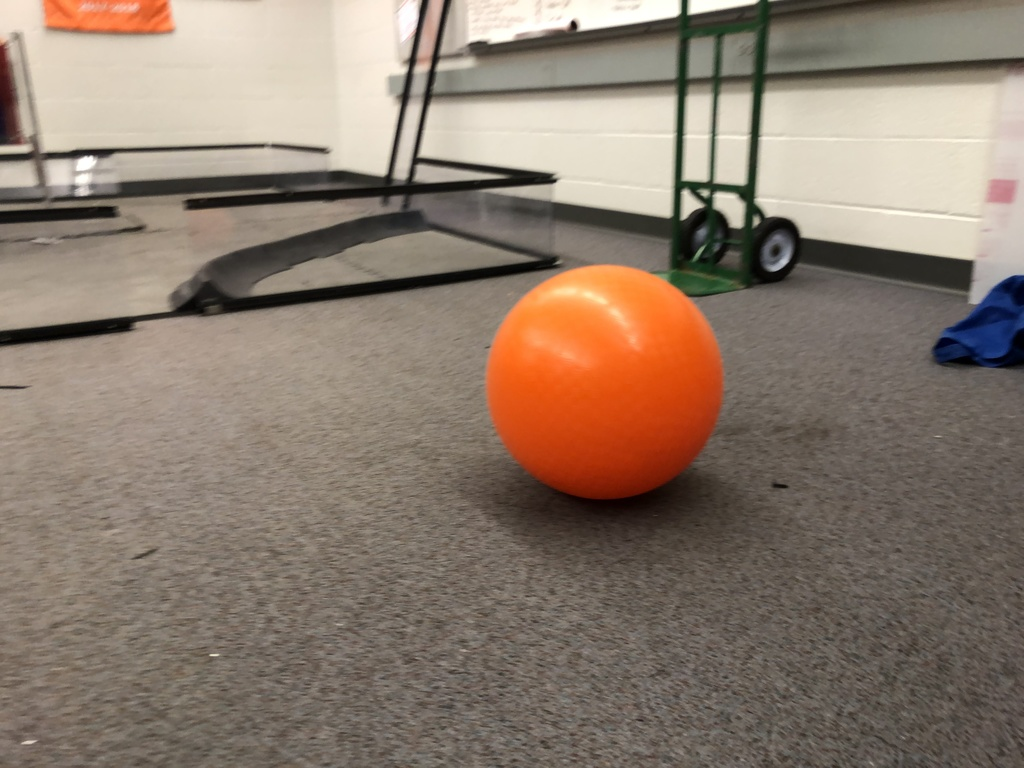cargo: (482, 251, 733, 515)
